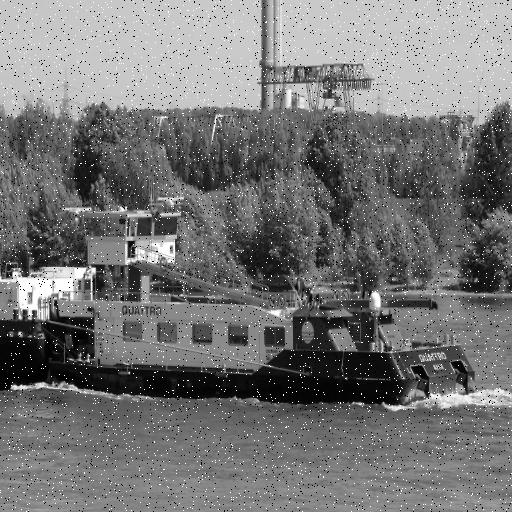tugboat: (40, 177, 482, 421)
